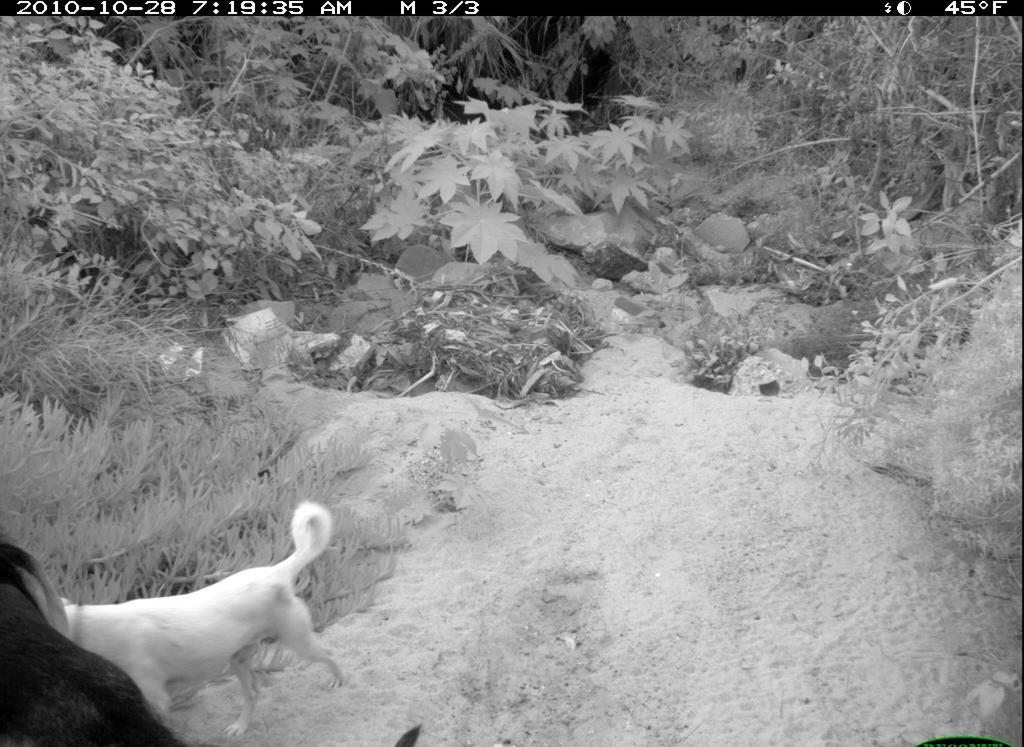dog: (1, 539, 427, 747), (66, 492, 351, 738)
